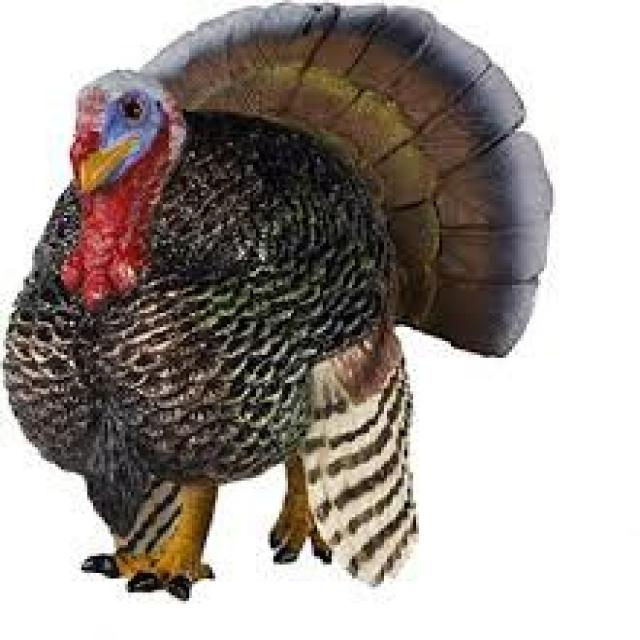Turkey: (9, 1, 554, 596)
